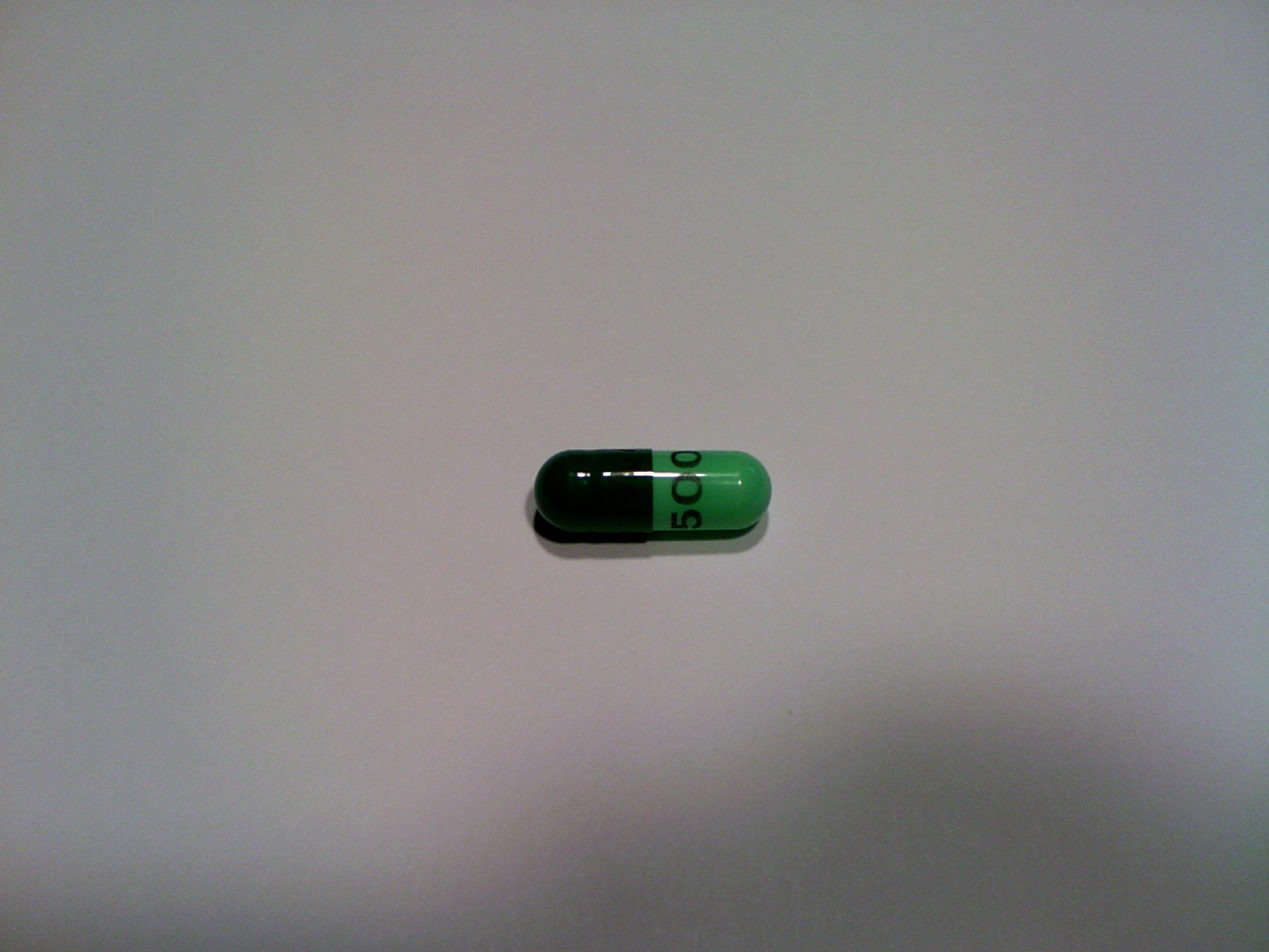Pill: (525, 439, 778, 550)
